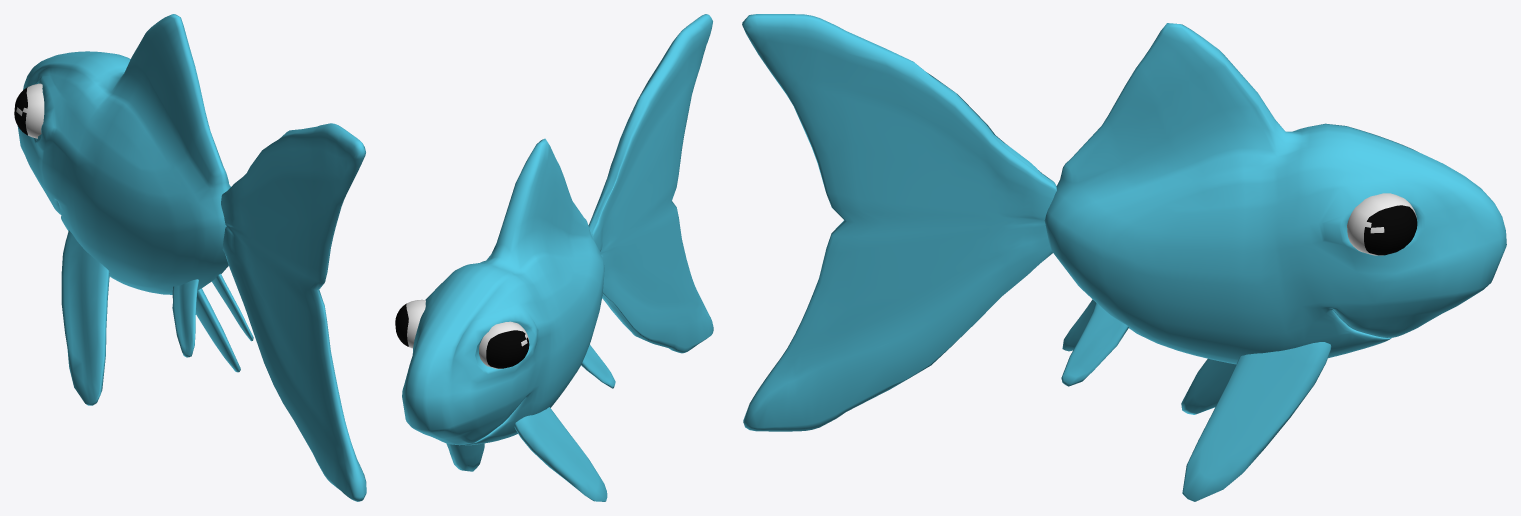
The model's file is starterFish.fbx.
The picture shows the model from 3 angles, left to right: view 1: azimuth 30°, elevation 25°; view 2: azimuth 150°, elevation 25°; view 3: azimuth 270°, elevation 25°; orthographic projection. The views are drawn at different scales.
Visible parts, largest first — view 1: body.001, tail.001, bottomFin.001, eye.001; view 2: body.001, tail.001, bottomFin.001, eye.001; view 3: body.001, tail.001, bottomFin.001, eye.001.
Part boxes in pixels (x1,y1,x2,y2): body.001: (17, 14, 230, 294); tail.001: (221, 123, 366, 501); bottomFin.001: (61, 230, 253, 405); eye.001: (14, 83, 44, 138); body.001: (402, 138, 604, 445); tail.001: (588, 14, 713, 353); bottomFin.001: (446, 344, 615, 501); eye.001: (395, 299, 529, 368); body.001: (1044, 23, 1506, 364); tail.001: (742, 14, 1056, 431); bottomFin.001: (1061, 299, 1331, 501); eye.001: (1347, 193, 1417, 255).
Size of the model in its own units: 61.15 by 147 by 228.
